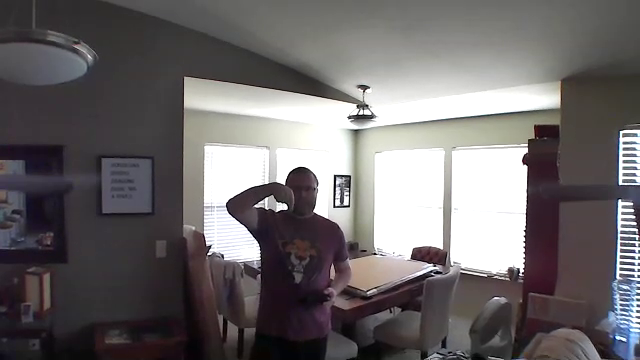down: (271, 177, 298, 214)
